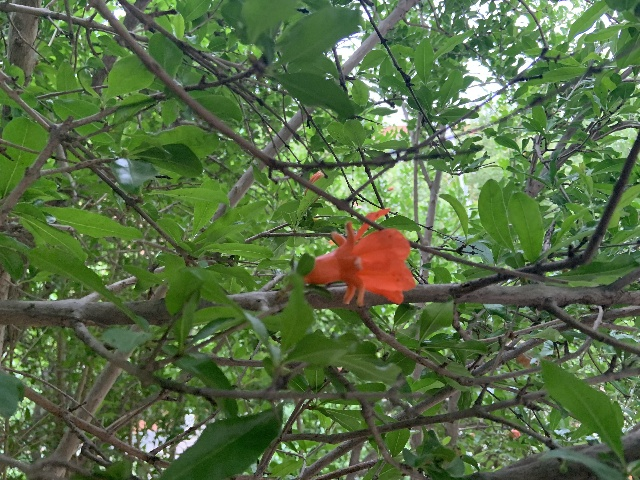bud: (304, 171, 324, 203), (509, 429, 520, 439)
flower: (303, 207, 416, 306)
